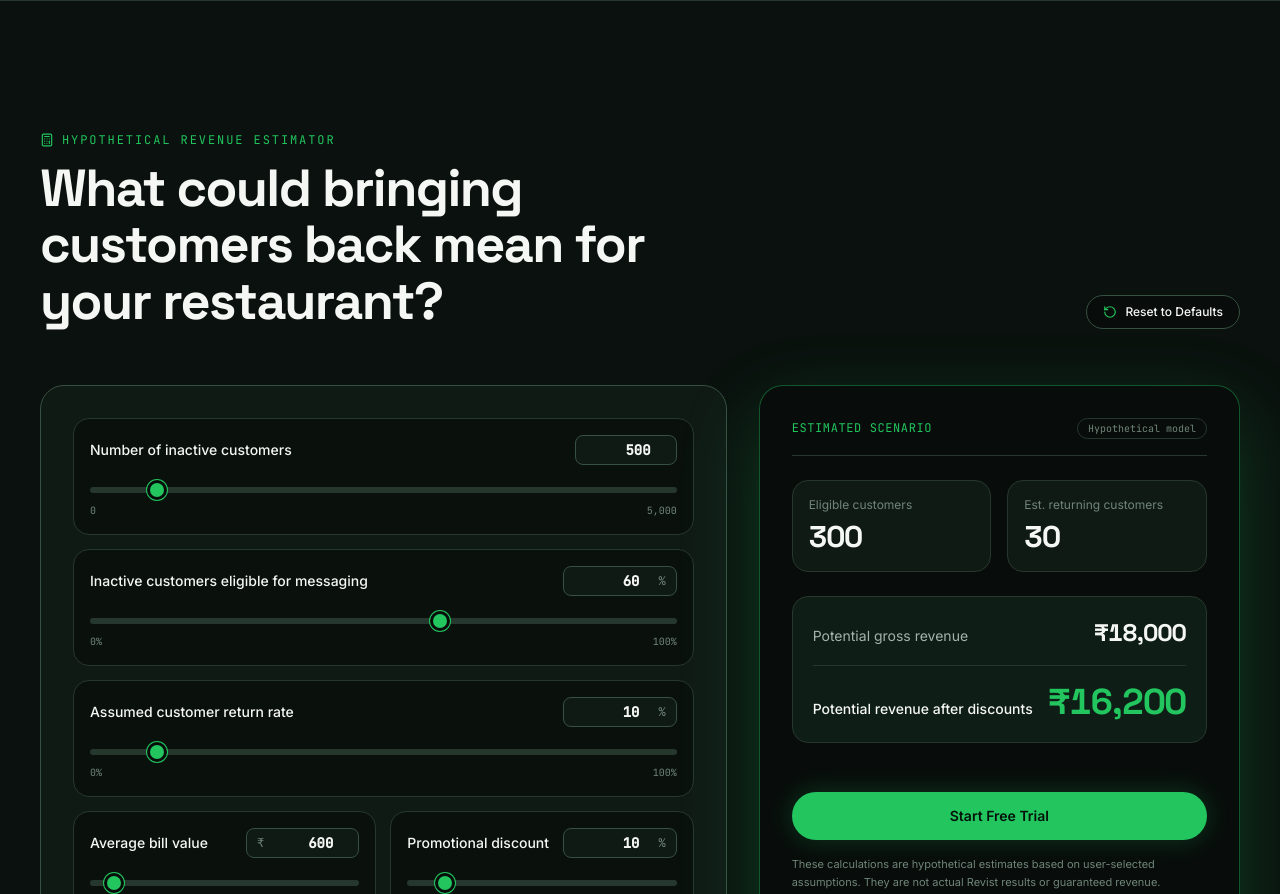
Scenario: Revist 2.0 Interactive Components › recalculates revenue estimates live and resets cleanly
Expected: the text with test id "calc-eligible" reads "300", [809,517,862,556]
Expected: the text with test id "calc-returning" reads "30", [1024,517,1060,556]
Replace the text in the number field named "Number of inactive customers numeric value" with "1000" at (626, 450), box [586,440,666,460]
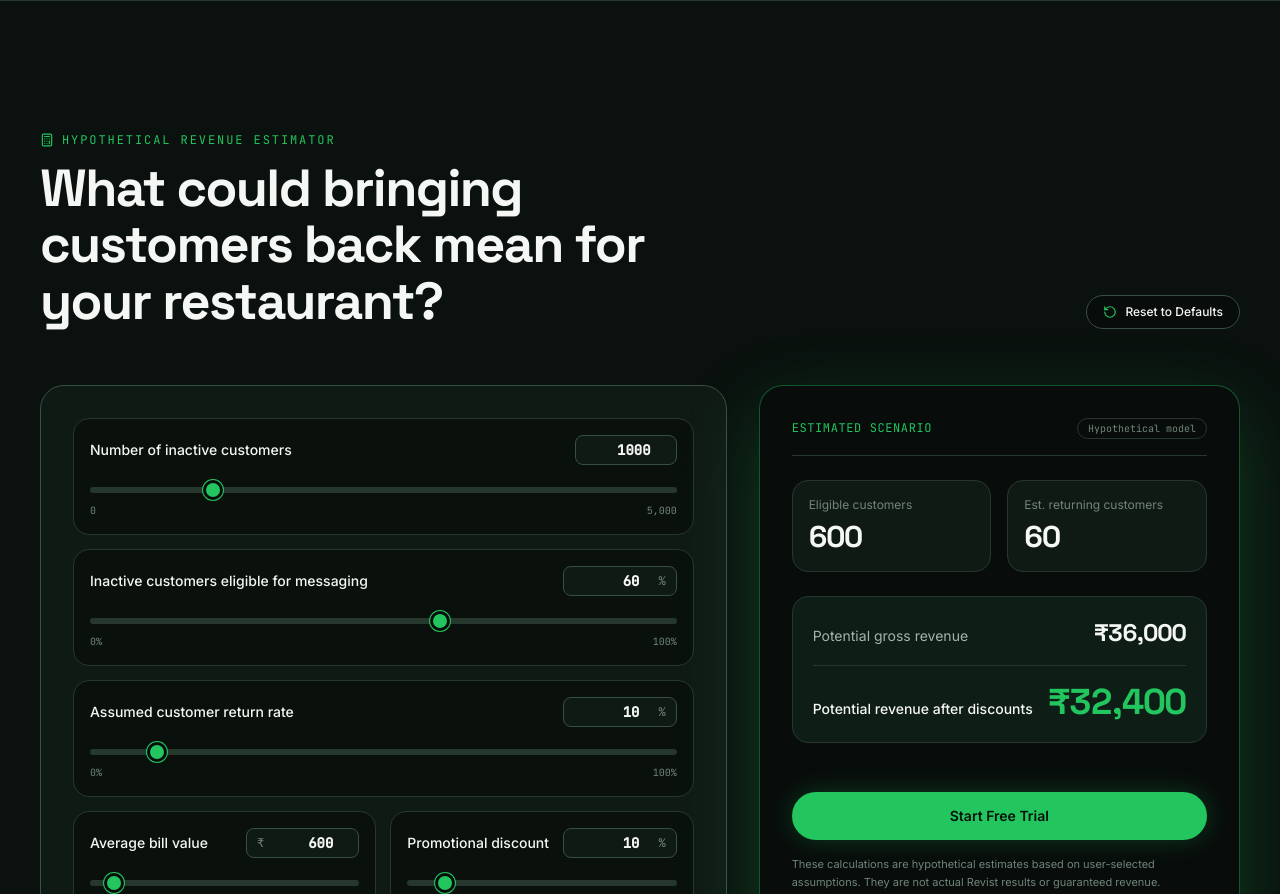
Expected: the text with test id "calc-eligible" reads "600", [809,517,862,556]
Expected: the text with test id "calc-returning" reads "60", [1024,517,1060,556]
Click the button "Reset to Defaults".
click(1163, 312)  # box [1086,295,1240,329]
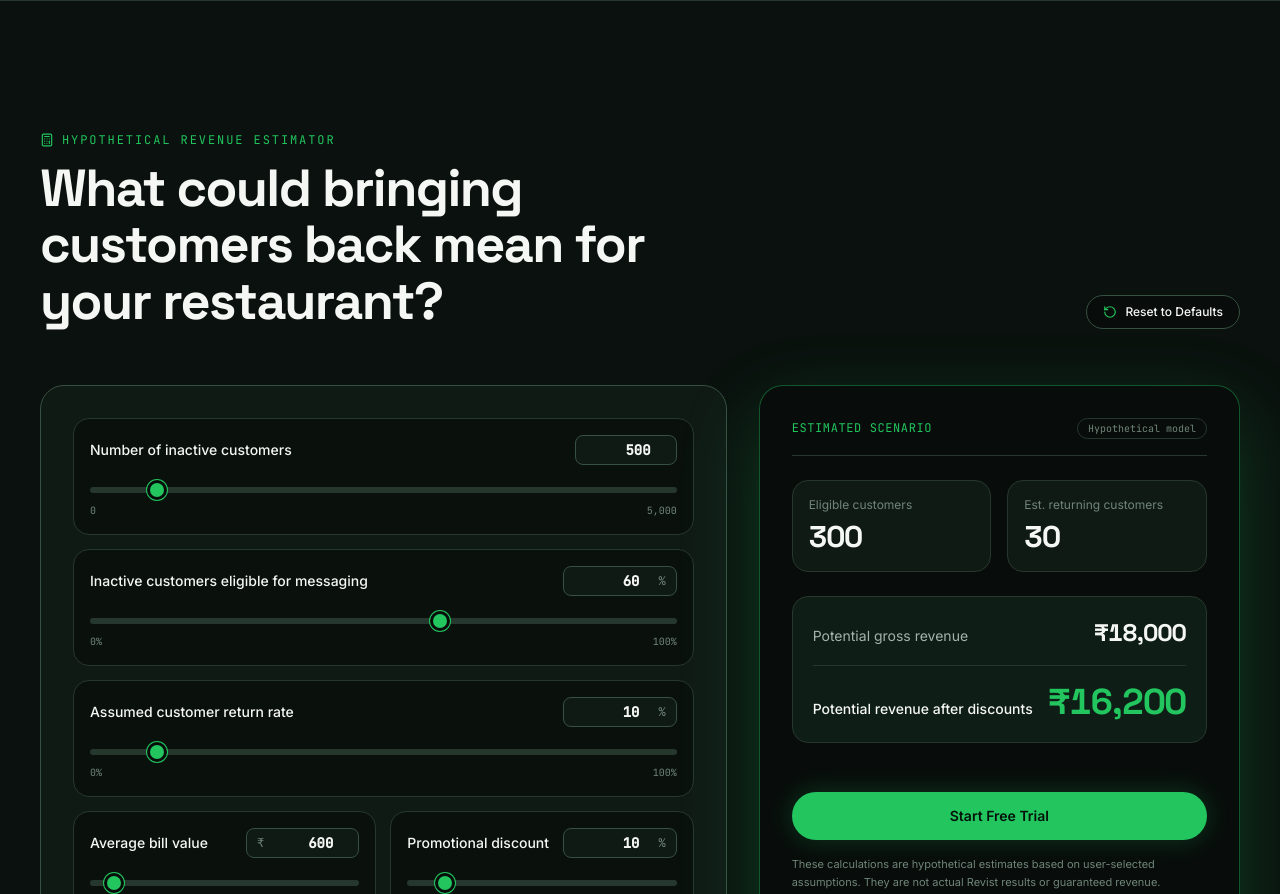
Expected: the text with test id "calc-eligible" reads "300", [809,517,862,556]
